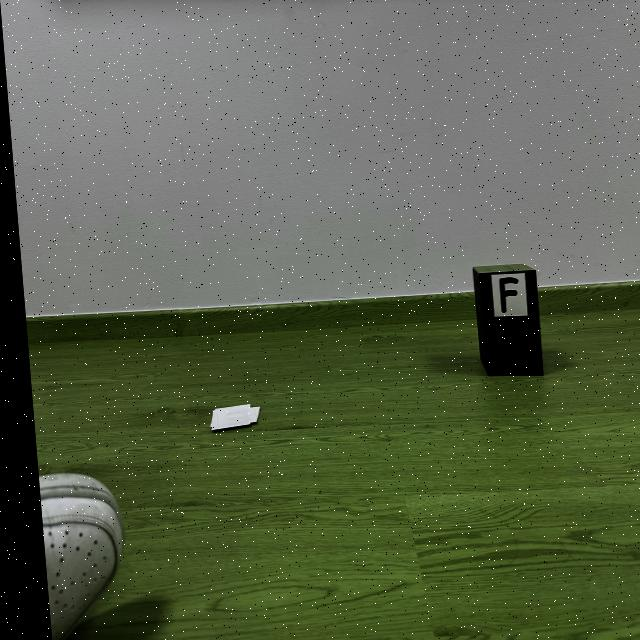F: (494, 277, 513, 313)
